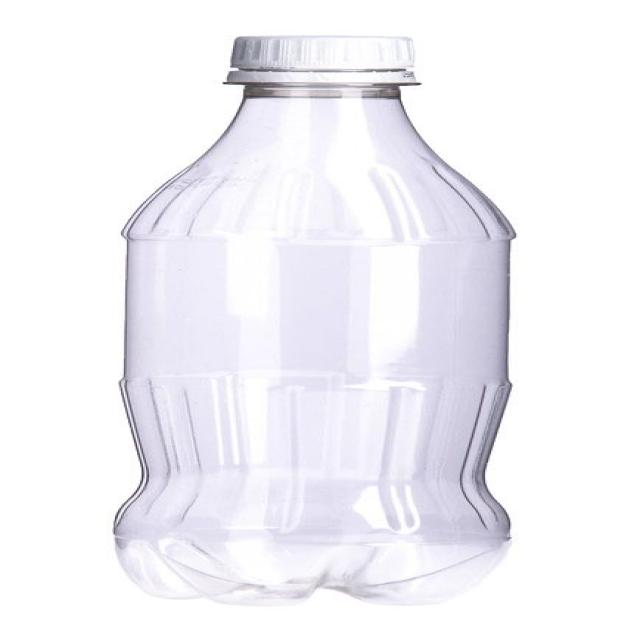bottle: (78, 2, 527, 622)
